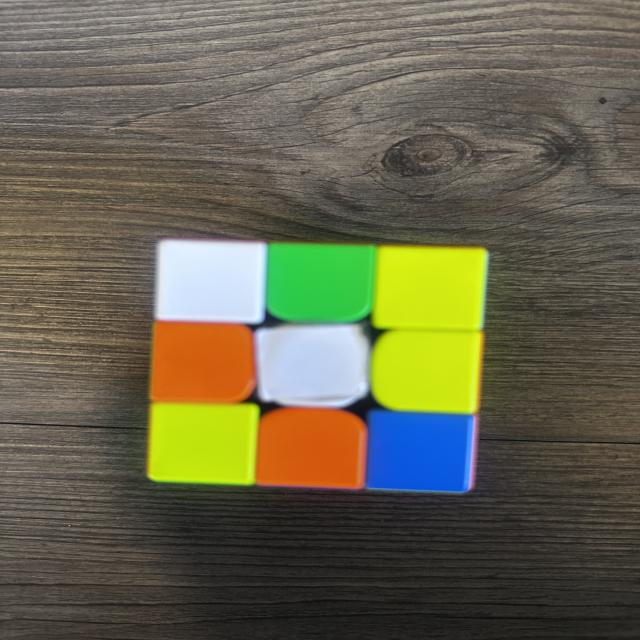sticker: (372, 244, 490, 334), (154, 238, 268, 328), (254, 323, 373, 409), (254, 406, 370, 491), (370, 330, 483, 416), (147, 402, 261, 486), (365, 410, 475, 496), (149, 322, 259, 406), (266, 244, 378, 326)
